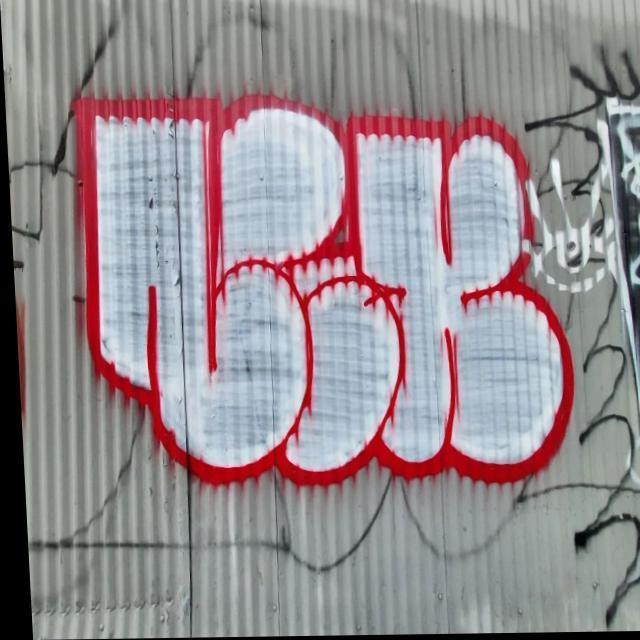nonspitting: (70, 91, 576, 485), (523, 44, 640, 629)
